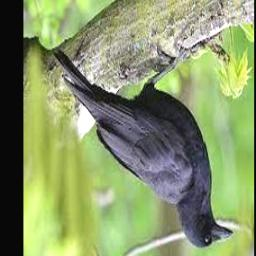Crow: (53, 48, 234, 249)
